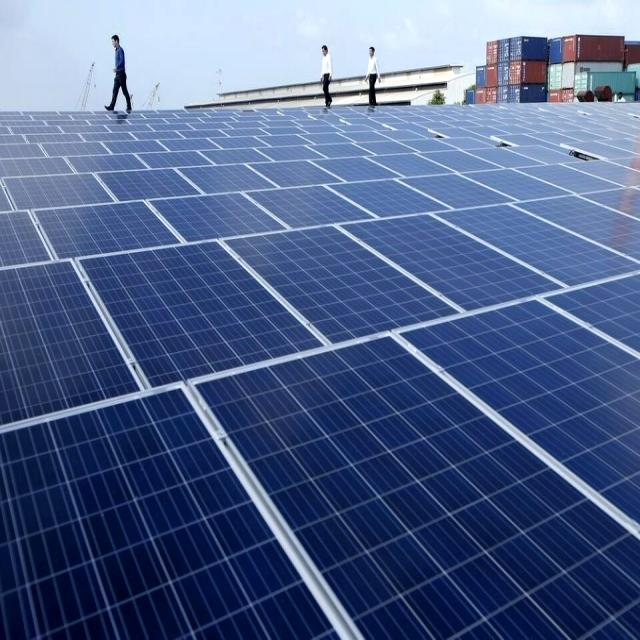crack: (313, 198, 572, 342), (14, 450, 201, 620), (418, 197, 640, 317), (350, 453, 496, 594), (418, 474, 537, 590), (138, 466, 243, 596), (533, 356, 640, 469), (241, 382, 359, 477), (148, 180, 288, 260), (456, 322, 574, 416), (34, 201, 184, 274), (243, 170, 383, 248), (392, 152, 514, 234), (319, 167, 458, 237), (146, 272, 244, 368), (89, 151, 208, 221), (0, 170, 130, 230), (215, 293, 302, 382), (170, 152, 290, 214), (353, 384, 423, 474), (295, 245, 368, 328), (338, 272, 402, 354)
